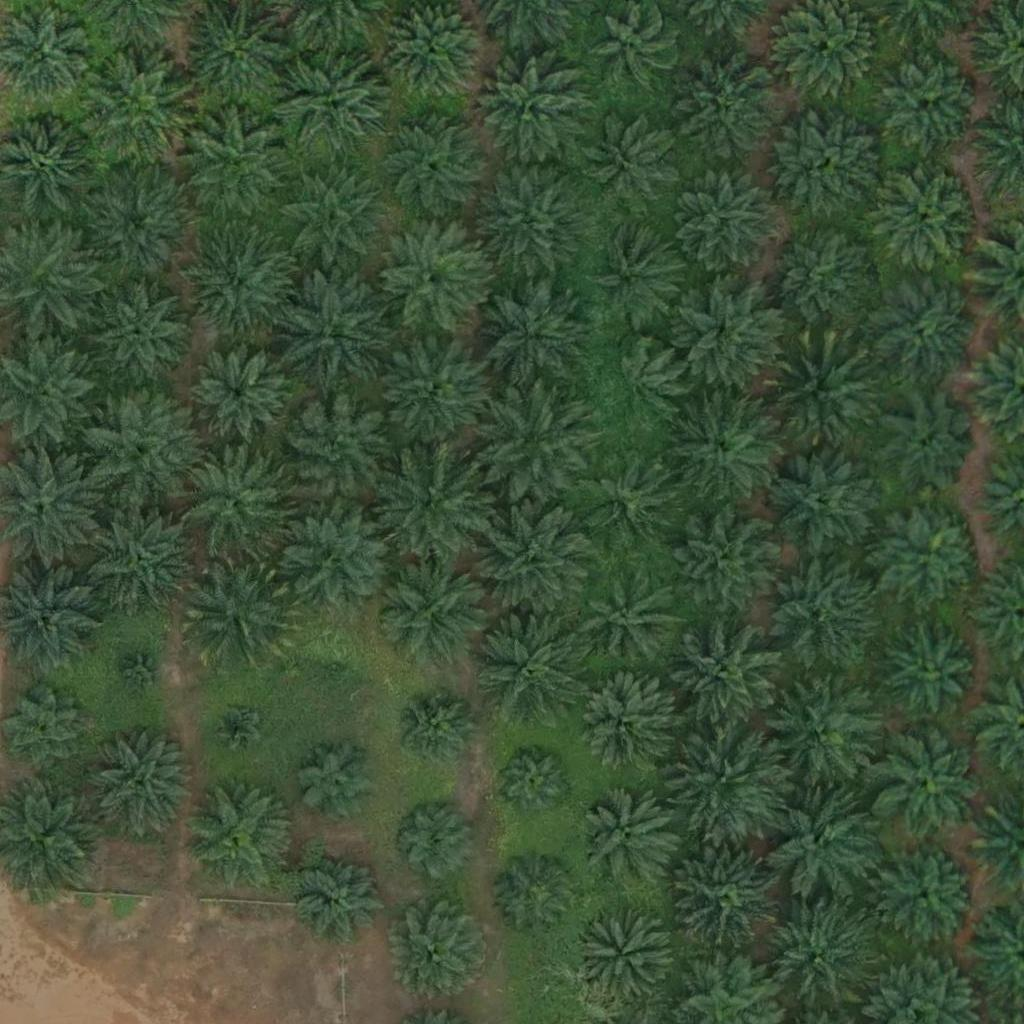Kelapa_Sawit: (181, 109, 294, 223), (473, 604, 586, 718), (376, 335, 489, 449), (373, 445, 486, 559), (274, 164, 387, 278), (276, 274, 389, 388), (184, 229, 297, 343), (473, 56, 586, 169), (671, 164, 784, 277), (768, 444, 881, 557), (764, 554, 877, 667), (673, 278, 786, 391), (664, 391, 777, 504), (670, 508, 783, 621), (378, 555, 491, 668), (280, 395, 393, 508), (672, 726, 785, 839), (673, 843, 786, 956), (769, 674, 882, 787), (766, 788, 879, 901), (760, 899, 873, 1012), (84, 58, 196, 172), (670, 619, 782, 733), (477, 385, 589, 499), (479, 502, 591, 616), (183, 780, 295, 894), (182, 556, 294, 669), (80, 167, 192, 280), (278, 50, 390, 163), (377, 107, 489, 220), (476, 164, 588, 277), (775, 108, 887, 221), (766, 224, 878, 337), (765, 339, 877, 452), (475, 279, 587, 392), (375, 222, 487, 335), (285, 502, 397, 615), (180, 446, 292, 559), (80, 392, 192, 505), (84, 499, 196, 612), (84, 730, 196, 843), (873, 728, 985, 841), (680, 59, 780, 160), (880, 52, 980, 153), (873, 167, 973, 268), (870, 279, 970, 380), (879, 395, 979, 496), (880, 505, 980, 606), (877, 619, 977, 720), (585, 225, 685, 326), (189, 343, 289, 444), (91, 284, 191, 385), (573, 676, 673, 777), (579, 788, 679, 889), (574, 906, 674, 1007), (879, 845, 979, 946), (577, 452, 677, 552), (581, 571, 681, 671), (391, 901, 491, 1001), (594, 342, 682, 430), (300, 853, 388, 941), (588, 2, 675, 90), (589, 118, 676, 206), (3, 688, 90, 776), (294, 738, 381, 826), (393, 688, 480, 776), (390, 797, 477, 885), (492, 852, 579, 940), (495, 744, 570, 819), (118, 646, 168, 697), (212, 702, 262, 753), (309, 639, 359, 689)
